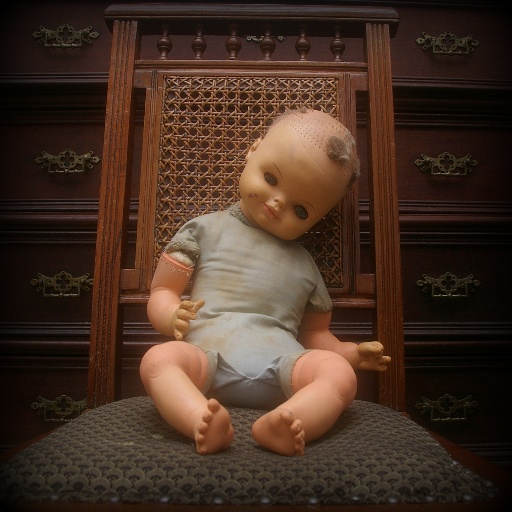hand: (343, 338, 402, 390), (169, 296, 206, 342)
